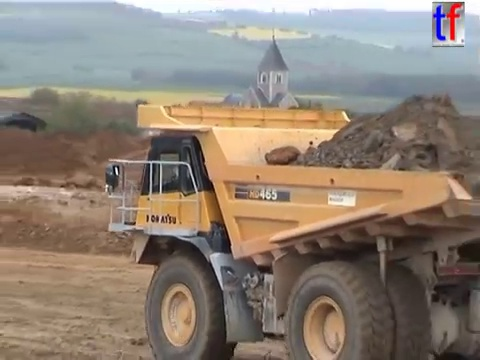truck: (101, 100, 480, 360)
